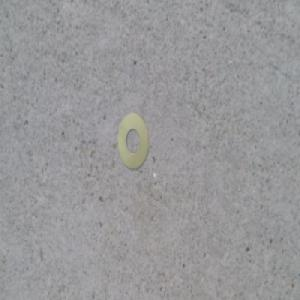Washer: (116, 111, 149, 171)
